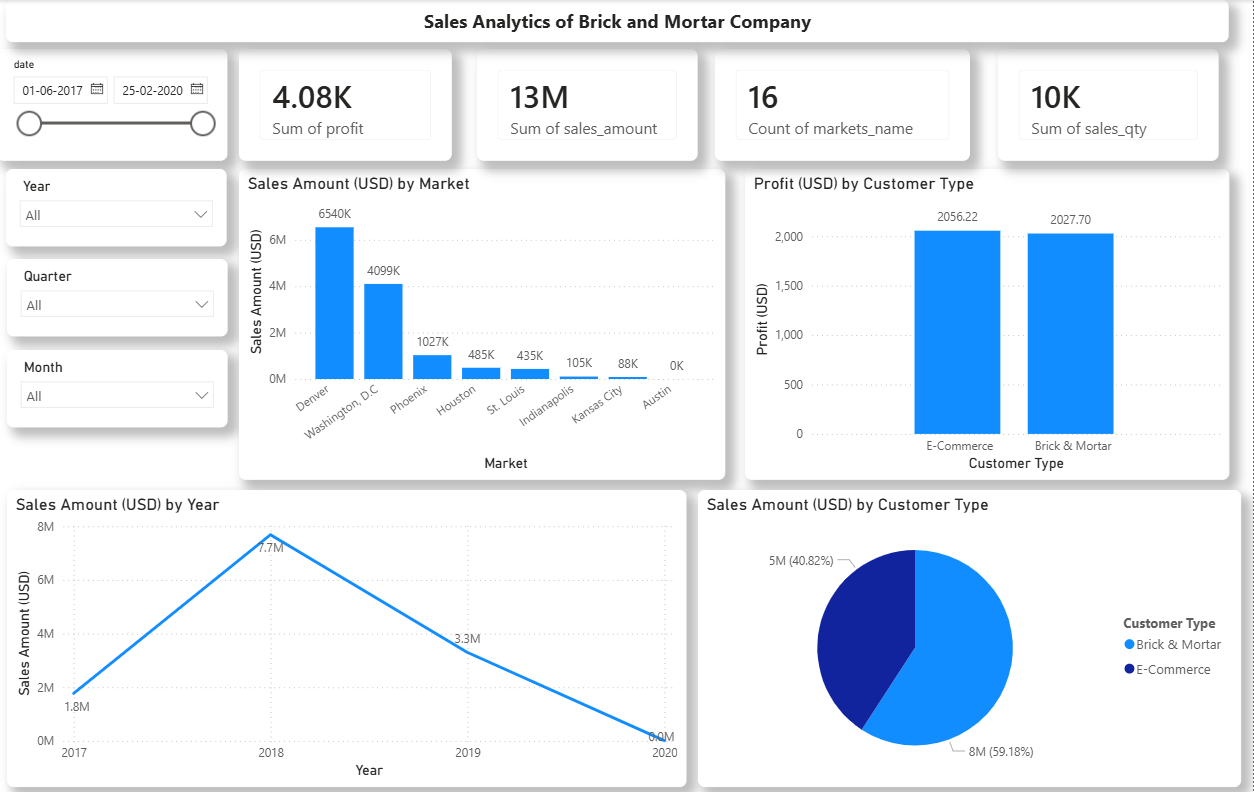

Layout of this report page (visuals, bound fields, positions):
{"tool":"powerbi","page":{"name":"Sales and Profit","canvas":[1280,820],"ordinal":0},"visuals":[{"type":"slicer","fields":{"Values":["date.date"]},"box":[0,50,234.6,114.2],"z":0},{"type":"slicer","fields":{"Values":["date.date.Variation.Date Hierarchy.Year"]},"box":[9.2,172.4,225.4,78.5],"z":1000},{"type":"slicer","fields":{"Values":["date.date.Variation.Date Hierarchy.Quarter"]},"box":[10.2,264.2,225.4,78.5],"z":2000},{"type":"slicer","fields":{"Values":["date.date.Variation.Date Hierarchy.Month"]},"box":[10.2,357,225.4,78.5],"z":3000},{"type":"clusteredColumnChart","fields":{"Category":["markets.markets_name"],"Y":["Sum(transactions.sales_amount)"]},"box":[246.8,172.4,495.7,317.2],"z":4000},{"type":"clusteredColumnChart","fields":{"Category":["customers.customer_type"],"Y":["Sum(transactions.profit)"]},"box":[762.9,172.4,493.6,317.2],"z":5000},{"type":"lineChart","fields":{"Category":["date.date.Variation.Date Hierarchy.Year","date.date.Variation.Date Hierarchy.Quarter","date.date.Variation.Date Hierarchy.Month"],"Y":["Sum(transactions.sales_amount)"]},"box":[10.2,499.8,692.5,302.9],"z":6000},{"type":"pieChart","fields":{"Category":["customers.customer_type"],"Y":["Sum(transactions.sales_amount)"]},"box":[715,499.8,553.8,302.9],"z":7000},{"type":"cardVisual","fields":{"Data":["Sum(transactions.profit)"]},"box":[246.8,50,217.2,114.2],"z":8000},{"type":"cardVisual","fields":{"Data":["Sum(transactions.sales_amount)"]},"box":[489.6,50,225.4,114.2],"z":9000},{"type":"cardVisual","fields":{"Data":["Sum(transactions.sales_qty)"]},"box":[1020.9,50,225.4,114.2],"z":10000},{"type":"cardVisual","fields":{"Data":["Count(markets.markets_name)"]},"box":[732.3,50,260.1,114.2],"z":11000},{"type":"textbox","box":[9.2,0,1247.3,42.8],"z":12000}]}

Visuals, with their boxes in screenshot pixels (x1, y1, x2, y2), scaled from the page's 1280x820 canvas onto the 1254x792 screenshot:
slicer - date.date: select_region(0, 48, 230, 159)
slicer - date.date.Variation.Date Hierarchy.Year: select_region(9, 167, 230, 242)
slicer - date.date.Variation.Date Hierarchy.Quarter: select_region(10, 255, 231, 331)
slicer - date.date.Variation.Date Hierarchy.Month: select_region(10, 345, 231, 421)
clusteredColumnChart - markets.markets_name x Sum(transactions.sales_amount): select_region(242, 167, 727, 473)
clusteredColumnChart - customers.customer_type x Sum(transactions.profit): select_region(747, 167, 1231, 473)
lineChart - date.date.Variation.Date Hierarchy.Year x date.date.Variation.Date Hierarchy.Quarter: select_region(10, 483, 688, 775)
pieChart - customers.customer_type x Sum(transactions.sales_amount): select_region(700, 483, 1243, 775)
cardVisual - Sum(transactions.profit): select_region(242, 48, 455, 159)
cardVisual - Sum(transactions.sales_amount): select_region(480, 48, 700, 159)
cardVisual - Sum(transactions.sales_qty): select_region(1000, 48, 1221, 159)
cardVisual - Count(markets.markets_name): select_region(717, 48, 972, 159)
textbox: select_region(9, 0, 1231, 41)
